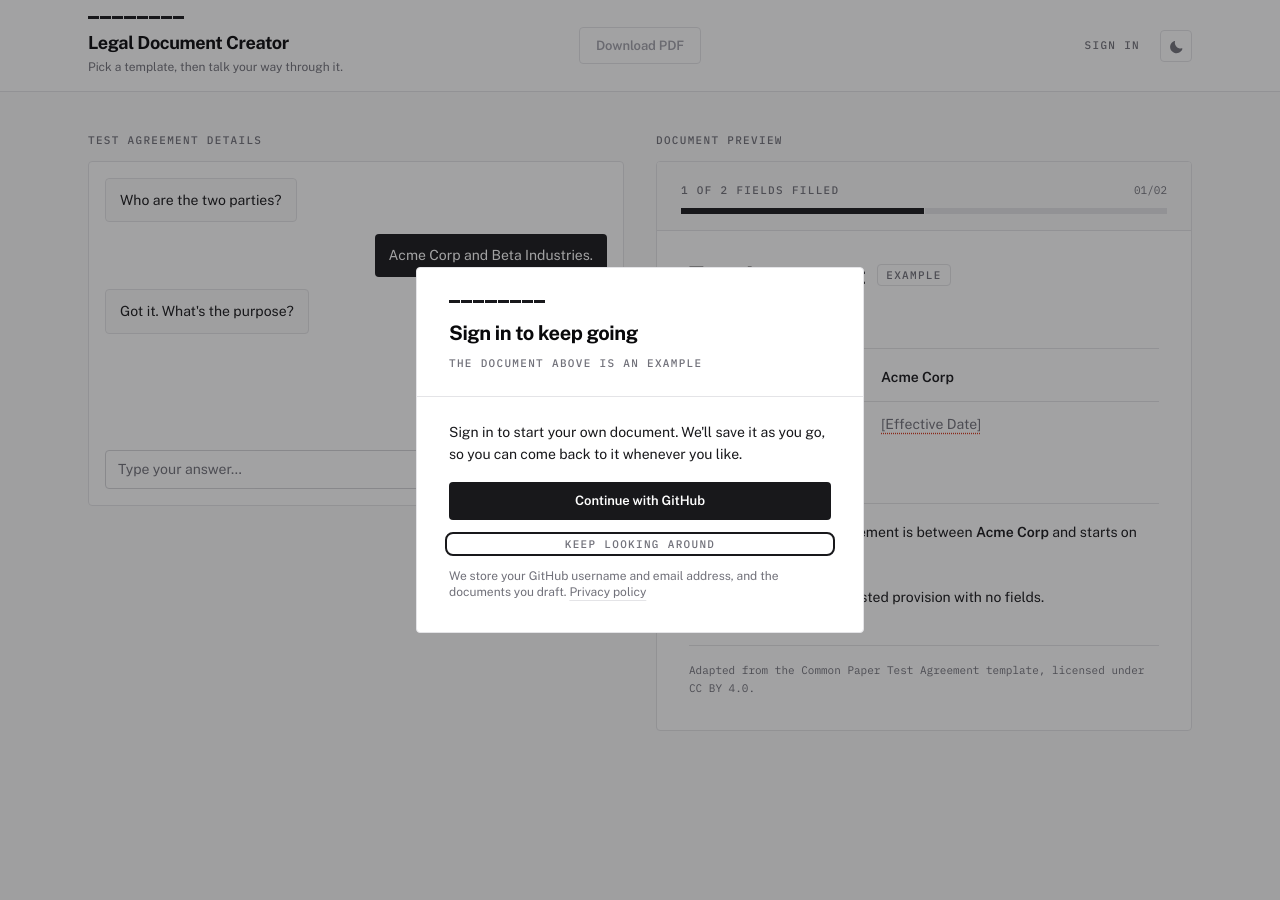
Test case: Home (signed-out demo) › does not re-arm the timer once dismissed
The image size is (1280, 900).
expect the text "Example" is shown: met, box [877, 264, 951, 286]
Click the button "Keep looking around" at (640, 544), box [449, 536, 831, 552]
Wait 60000 ms
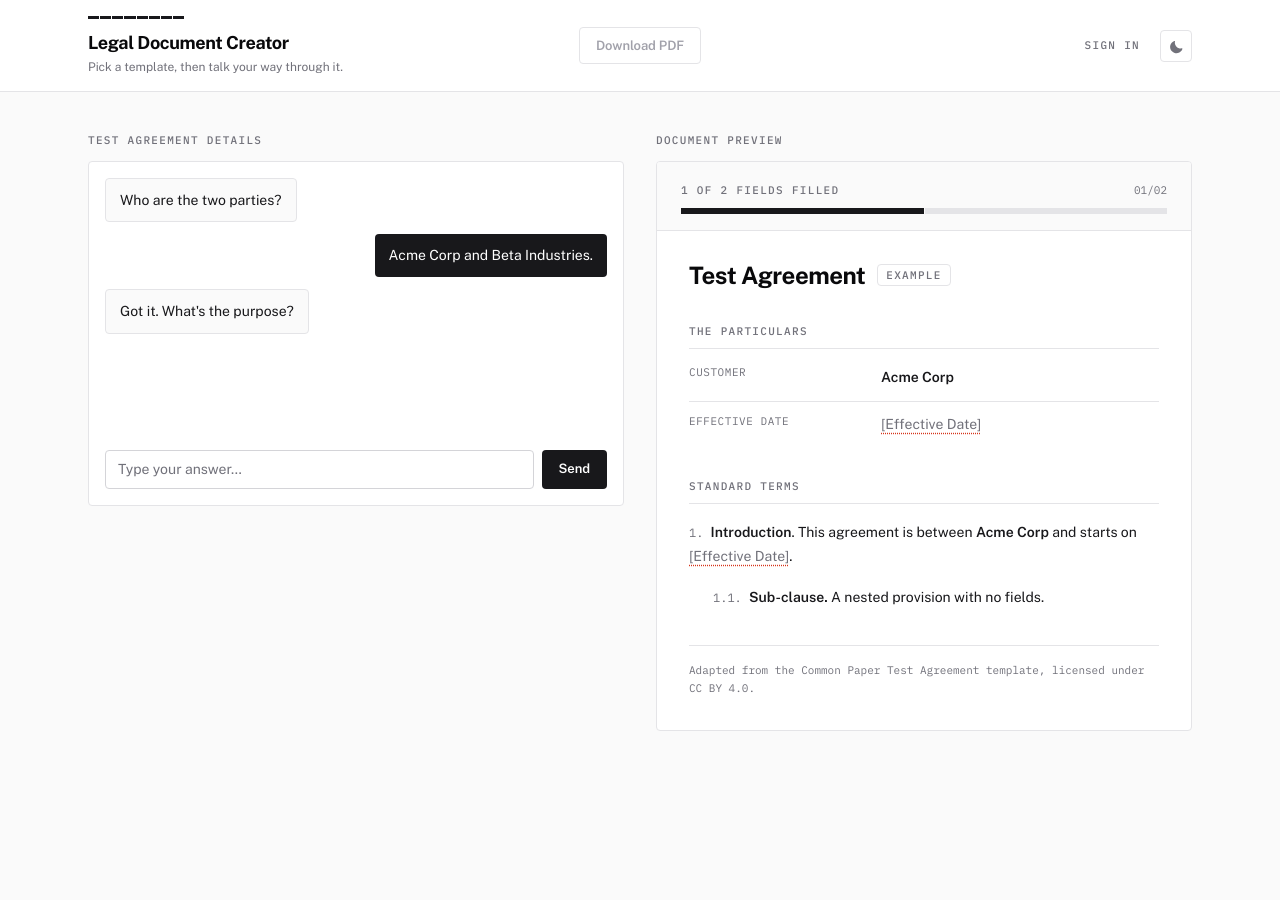
expect the dialog is gone: met
